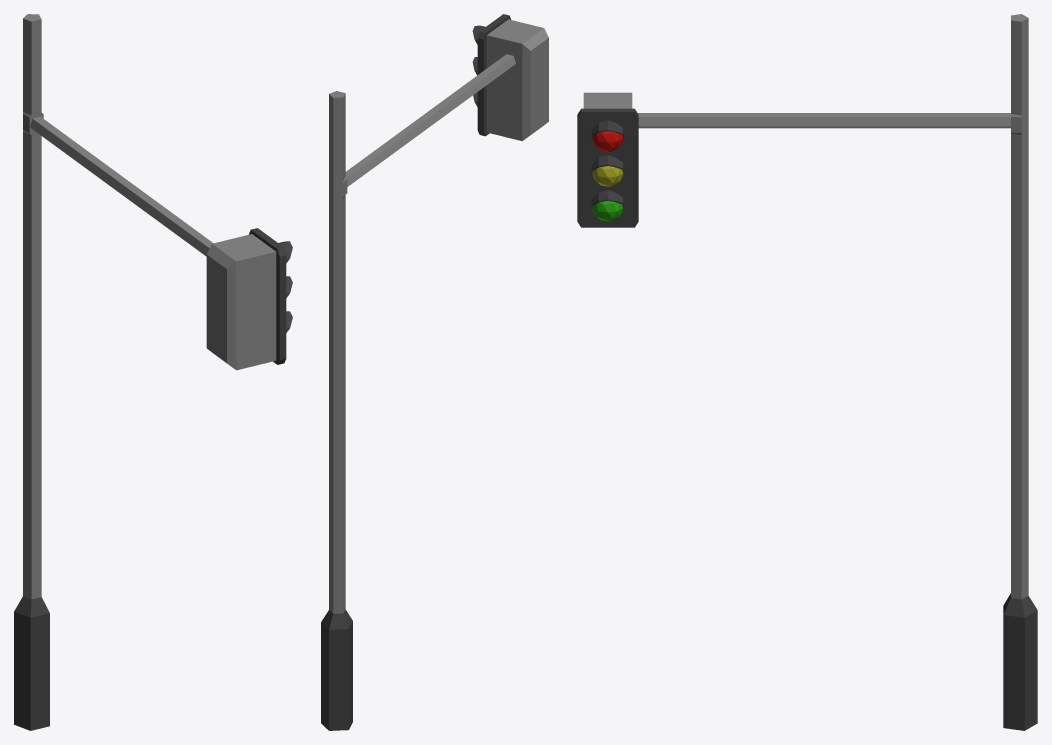
Rendered from TrafficLight_2.glb.
3 renders of one model, left to right at view 1: azimuth 30°, elevation 25°; view 2: azimuth 150°, elevation 25°; view 3: azimuth 270°, elevation 25°, orthographic. The views are drawn at different scales.
Parts seen in each view (by area): view 1: TrafficLight_2_Cylinder.007; view 2: TrafficLight_2_Cylinder.007; view 3: TrafficLight_2_Cylinder.007.
Boxes of the visible parts, x1,y1,x2,y2 form: TrafficLight_2_Cylinder.007: (14,14,292,730); TrafficLight_2_Cylinder.007: (321,14,548,730); TrafficLight_2_Cylinder.007: (577,14,1037,730).
Bounding box in the file's own units: 0.123 × 1.13 × 0.6708.
